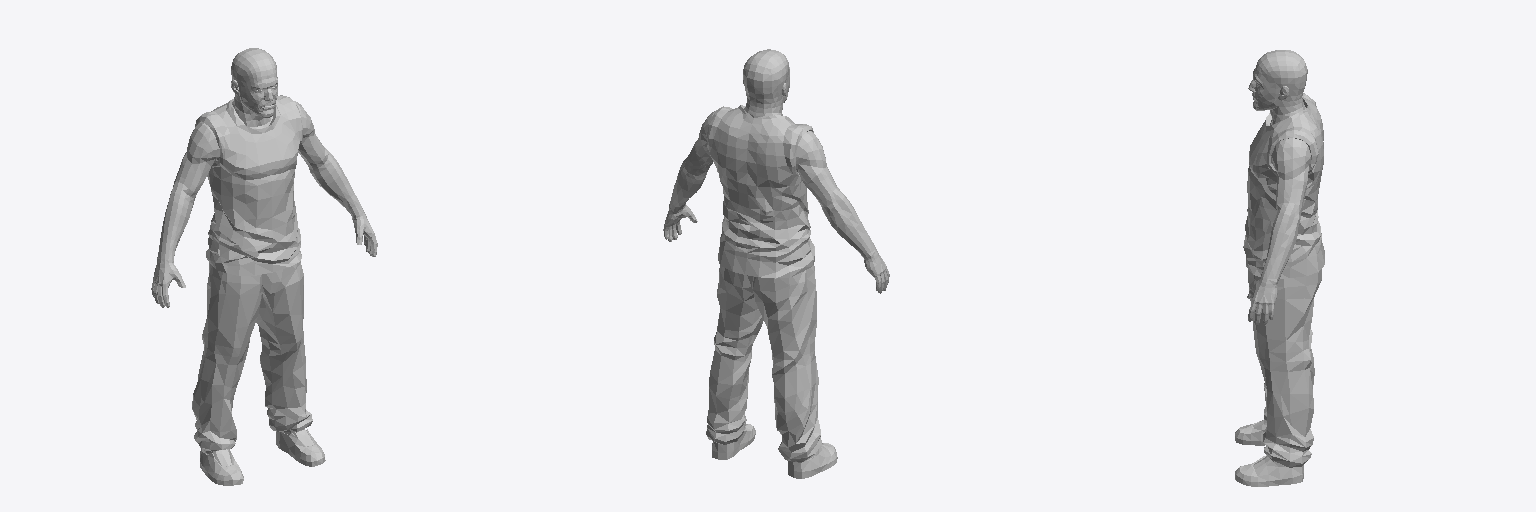
Rendered from PB prisoner.obj.
3 views of the same model, side by side, from view 1: azimuth 30°, elevation 25°; view 2: azimuth 150°, elevation 25°; view 3: azimuth 270°, elevation 25° (orthographic).
Parts seen in each view (by area): view 1: Mesh_0061_Tex_0061_0_, Mesh_0062_Tex_0062_0_; view 2: Mesh_0061_Tex_0061_0_, Mesh_0062_Tex_0062_0_; view 3: Mesh_0061_Tex_0061_0_, Mesh_0062_Tex_0062_0_.
Boxes of the visible parts, box(x1,y1,x2,y2) form: Mesh_0061_Tex_0061_0_: box(151, 95, 377, 485); Mesh_0062_Tex_0062_0_: box(231, 48, 277, 128); Mesh_0061_Tex_0061_0_: box(663, 105, 889, 478); Mesh_0062_Tex_0062_0_: box(743, 49, 789, 116); Mesh_0061_Tex_0061_0_: box(1235, 93, 1324, 486); Mesh_0062_Tex_0062_0_: box(1248, 50, 1307, 125).
Bounding box in the file's own units: 1.04 × 1.85 × 0.3732.